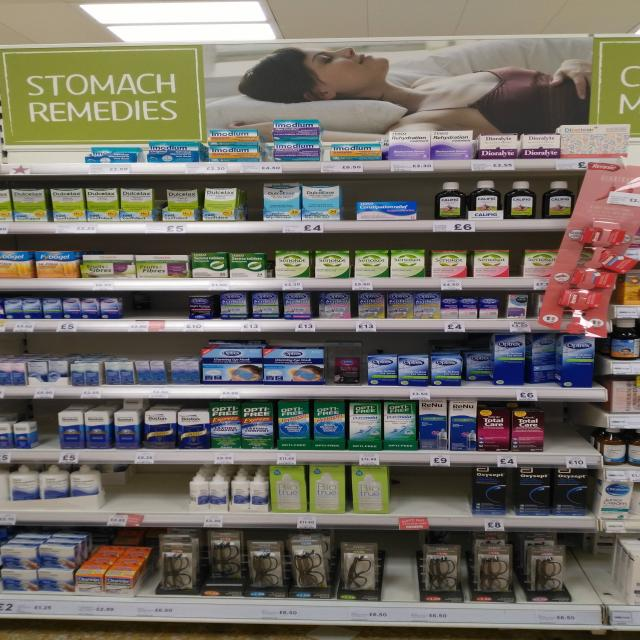void: (568, 534, 624, 632), (381, 532, 423, 624), (434, 462, 480, 532), (550, 402, 598, 466), (391, 463, 429, 531), (40, 120, 84, 178), (3, 179, 44, 236), (101, 465, 138, 528), (144, 464, 179, 529), (0, 122, 38, 174), (156, 292, 187, 332)
